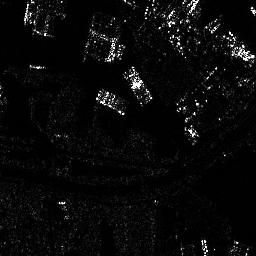ship: (122, 65, 153, 106), (96, 86, 128, 119)
